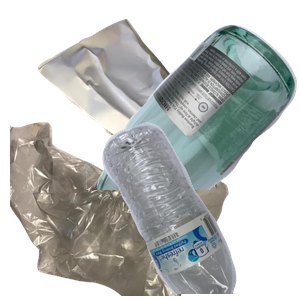glass: (86, 22, 300, 202)
paper: (35, 10, 237, 178)
plastic: (100, 120, 300, 300)
trash: (10, 120, 231, 300)
